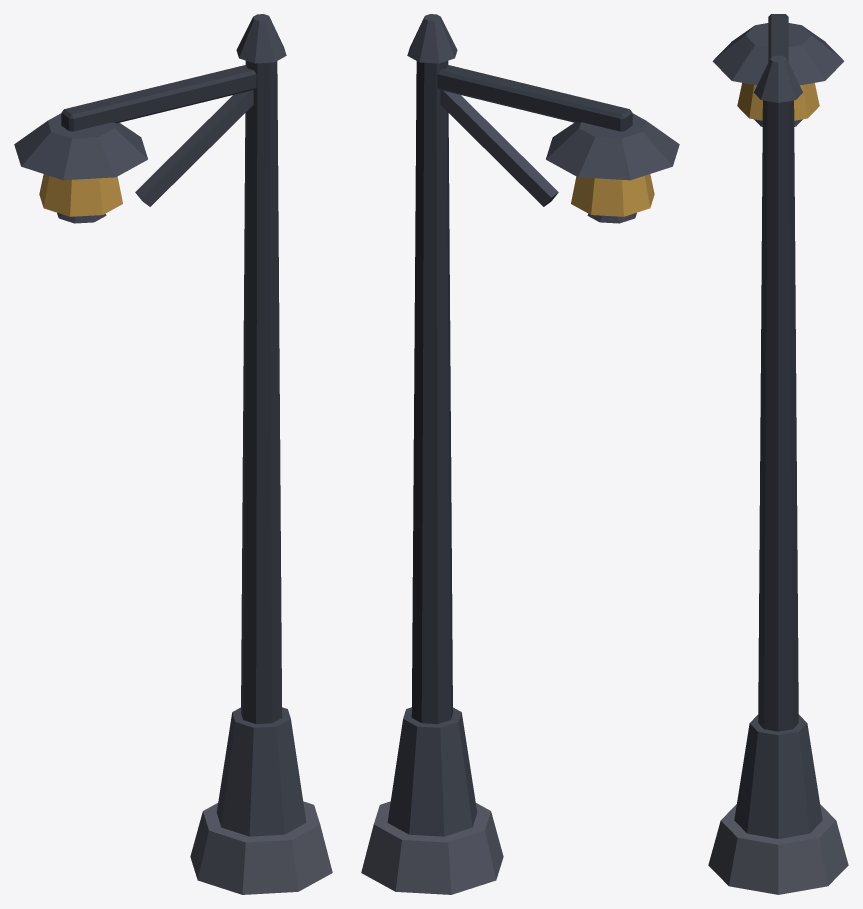
Rendered from Stylized_Prop_Streetlight.fbx.
3 renders of one model, left to right at view 1: azimuth 30°, elevation 25°; view 2: azimuth 150°, elevation 25°; view 3: azimuth 270°, elevation 25°, orthographic. The views are drawn at different scales.
Visible parts, largest first — view 1: Stylized_Prop_Streetlight; view 2: Stylized_Prop_Streetlight; view 3: Stylized_Prop_Streetlight.
Boxes of the visible parts, left/top/right/bottom form: Stylized_Prop_Streetlight: left=14, top=14, right=332, bottom=894; Stylized_Prop_Streetlight: left=361, top=14, right=679, bottom=894; Stylized_Prop_Streetlight: left=708, top=14, right=848, bottom=894.
Bounding box in the file's own units: 1.62 × 4.31 × 0.68.
